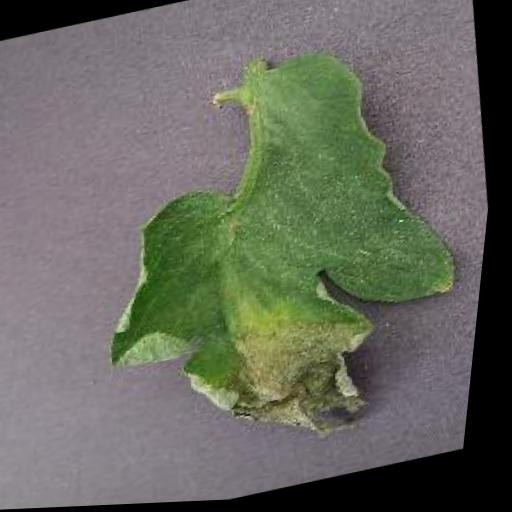Late Blight: (60, 20, 508, 483)
